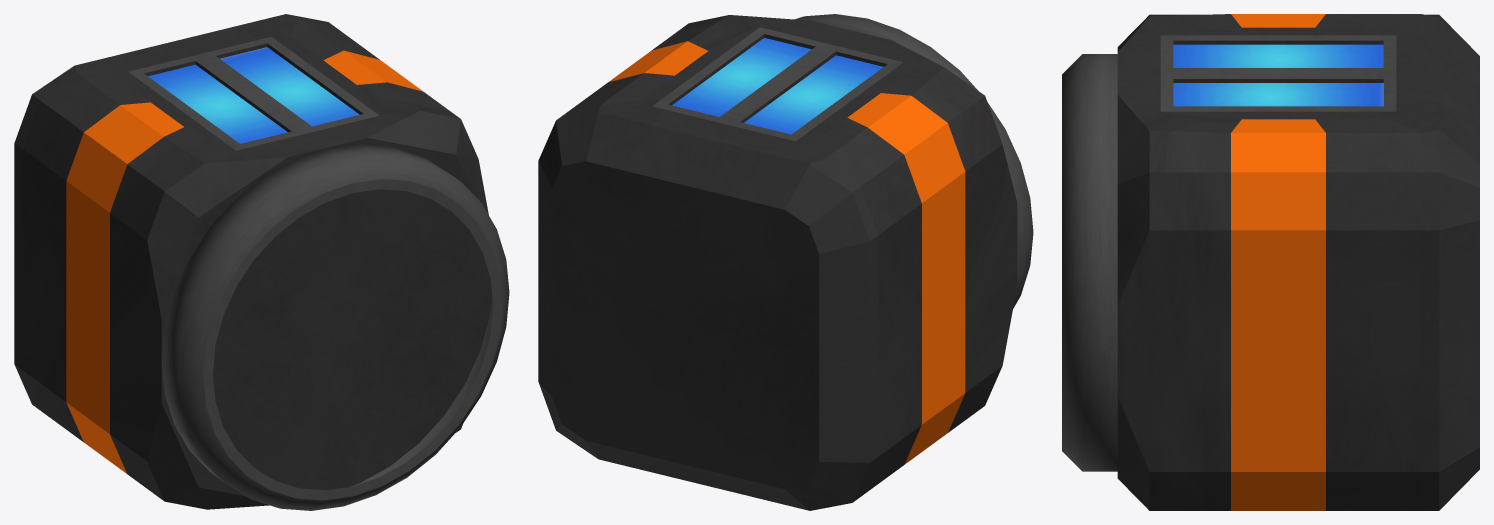
Rendered from IEC Repulsor Launcher Mount.obj.
3 views of the same model, side by side, from view 1: azimuth 30°, elevation 25°; view 2: azimuth 150°, elevation 25°; view 3: azimuth 270°, elevation 25° (orthographic). The views are drawn at different scales.
Visible parts, largest first — view 1: IEC_Repulsor_Launcher_Body_Cube.003; view 2: IEC_Repulsor_Launcher_Body_Cube.003; view 3: IEC_Repulsor_Launcher_Body_Cube.003.
Boxes of the visible parts, box(x1,y1,x2,y2) form: IEC_Repulsor_Launcher_Body_Cube.003: box(14, 14, 509, 510); IEC_Repulsor_Launcher_Body_Cube.003: box(538, 14, 1033, 510); IEC_Repulsor_Launcher_Body_Cube.003: box(1062, 14, 1479, 510).
Size of the model in its own units: 0.6 by 0.6 by 0.6.
